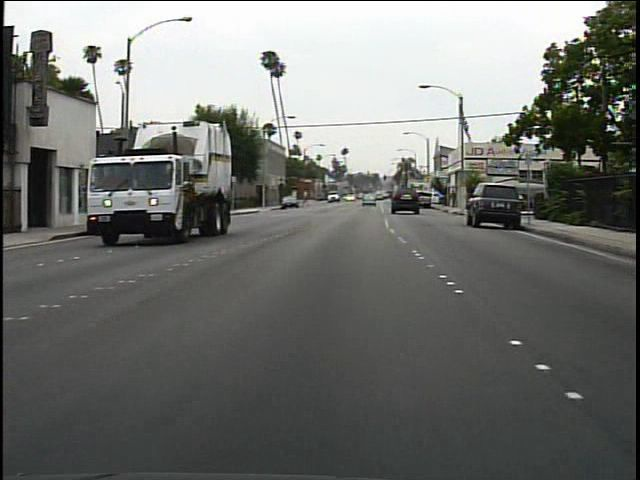person: (444, 185, 461, 213)
